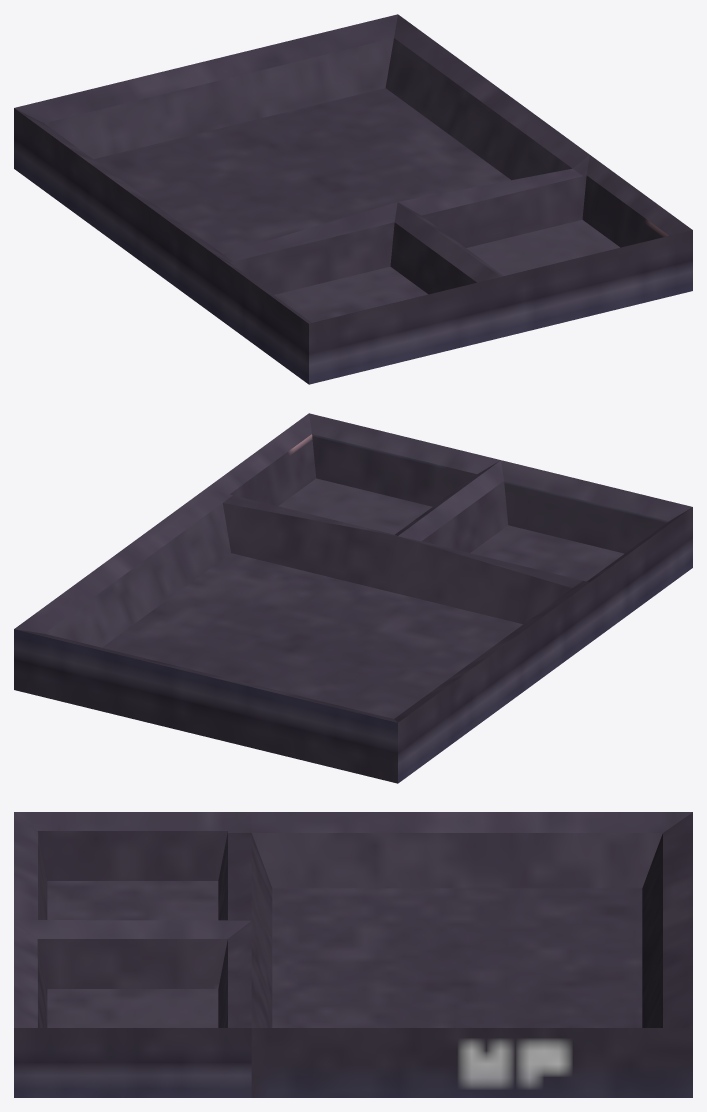
Rendered from MealPrep_Uncooked 1.fbx.
3 views of the same model, one above another, from view 1: azimuth 30°, elevation 25°; view 2: azimuth 150°, elevation 25°; view 3: azimuth 270°, elevation 25° (orthographic). The views are drawn at different scales.
Parts seen in each view (by area): view 1: MealPrep_Box_Uncooked; view 2: MealPrep_Box_Uncooked; view 3: MealPrep_Box_Uncooked.
Part boxes in pixels (box(x1,y1,x2,y2)): MealPrep_Box_Uncooked: box(14, 14, 692, 384); MealPrep_Box_Uncooked: box(14, 413, 692, 783); MealPrep_Box_Uncooked: box(14, 812, 692, 1097).
Bounding box in the file's own units: 93.79 × 14.19 × 125.
